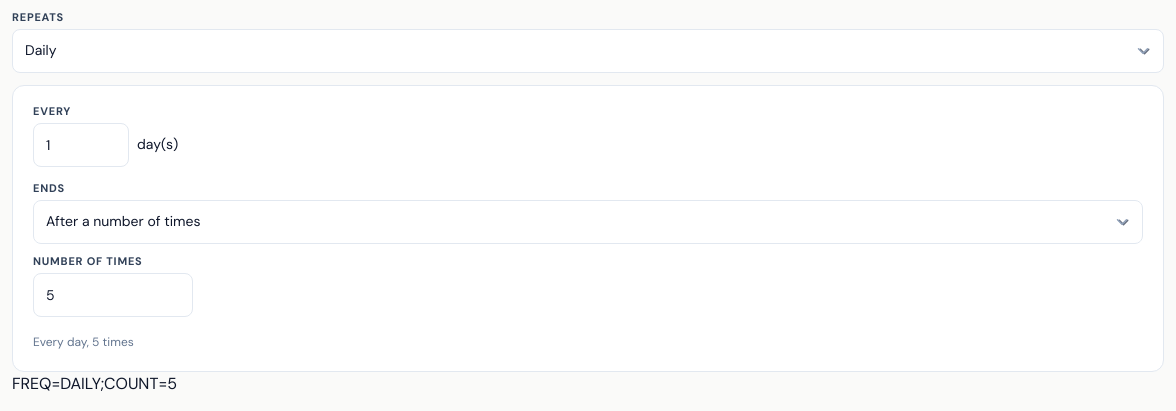
Scenario: RecurrenceControl › switches between a count and an end date, never both
Select "On a date" in the dropdown labelled "Ends" at (588, 222), box 33,200 -> 1143,244
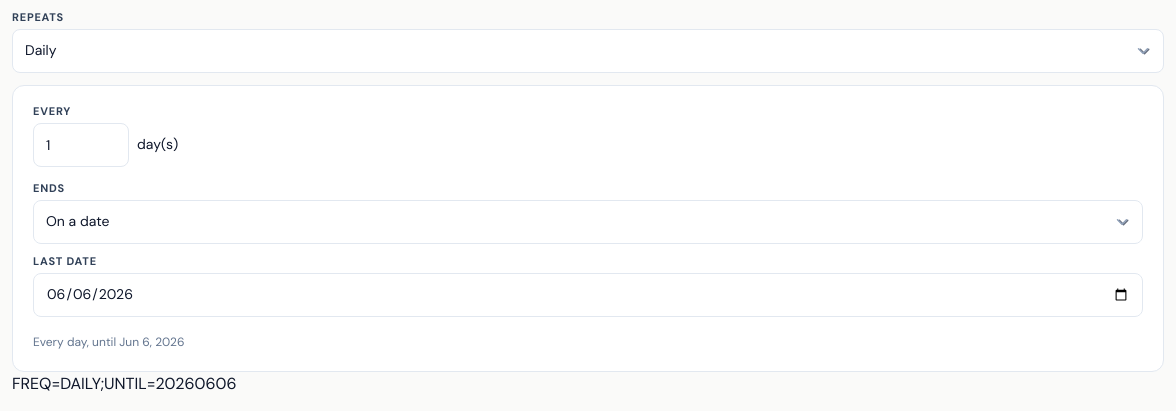
Expected: the text with test id "rule" reads "FREQ=DAILY;UNTIL=20260606", 12,373 -> 237,394
Select "Never" in the dropdown labelled "Ends" at (588, 222), box 33,200 -> 1143,244
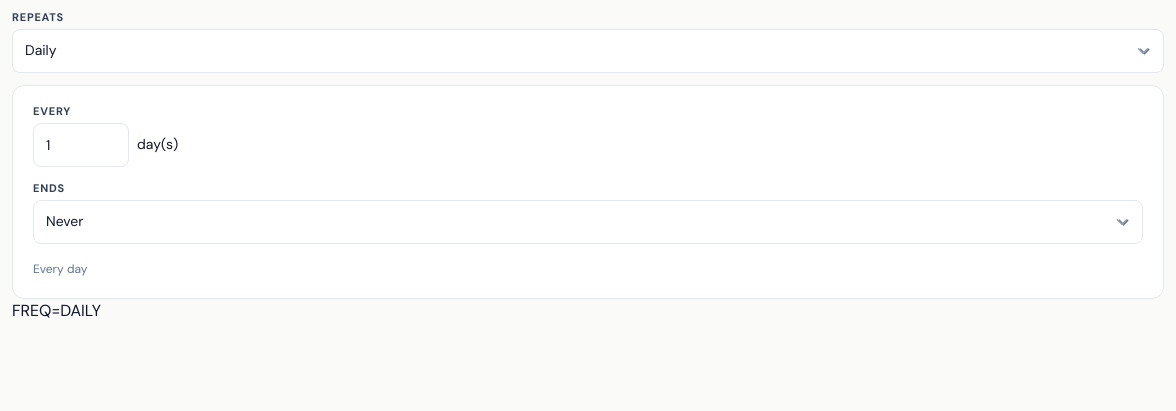
Expected: the text with test id "rule" reads "FREQ=DAILY", 12,300 -> 101,321
